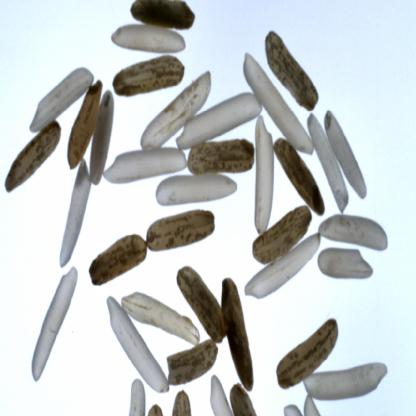Full: (243, 53, 315, 155), (106, 297, 169, 396), (30, 267, 79, 384), (140, 72, 212, 151), (174, 93, 263, 150), (246, 234, 321, 301), (120, 292, 207, 346), (275, 319, 339, 391), (264, 31, 320, 113), (28, 67, 96, 134), (307, 113, 350, 212), (273, 139, 326, 217), (176, 267, 228, 346), (324, 110, 369, 200), (4, 122, 61, 193), (221, 278, 255, 394), (58, 159, 92, 267), (252, 206, 313, 266), (67, 82, 103, 172), (304, 363, 388, 401), (103, 147, 187, 185), (88, 234, 147, 288), (146, 209, 216, 253), (112, 56, 185, 98), (318, 215, 390, 253), (156, 175, 238, 208), (89, 90, 115, 187), (254, 112, 274, 236), (167, 340, 219, 387), (110, 23, 186, 54), (187, 140, 254, 175), (130, 0, 196, 31)
